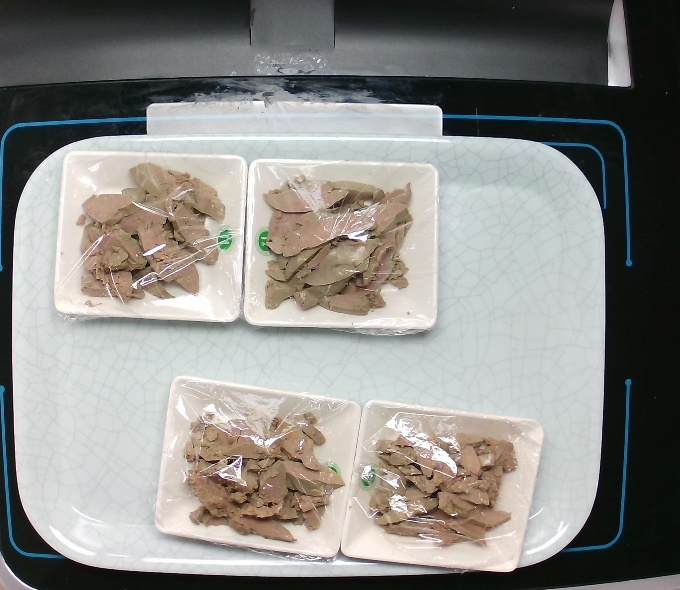wcq-EGan: (184, 401, 348, 548), (66, 155, 227, 303), (259, 173, 417, 321), (368, 420, 522, 545)
